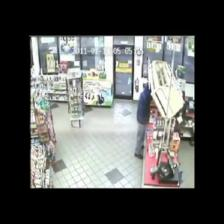person: (135, 83, 151, 158)
